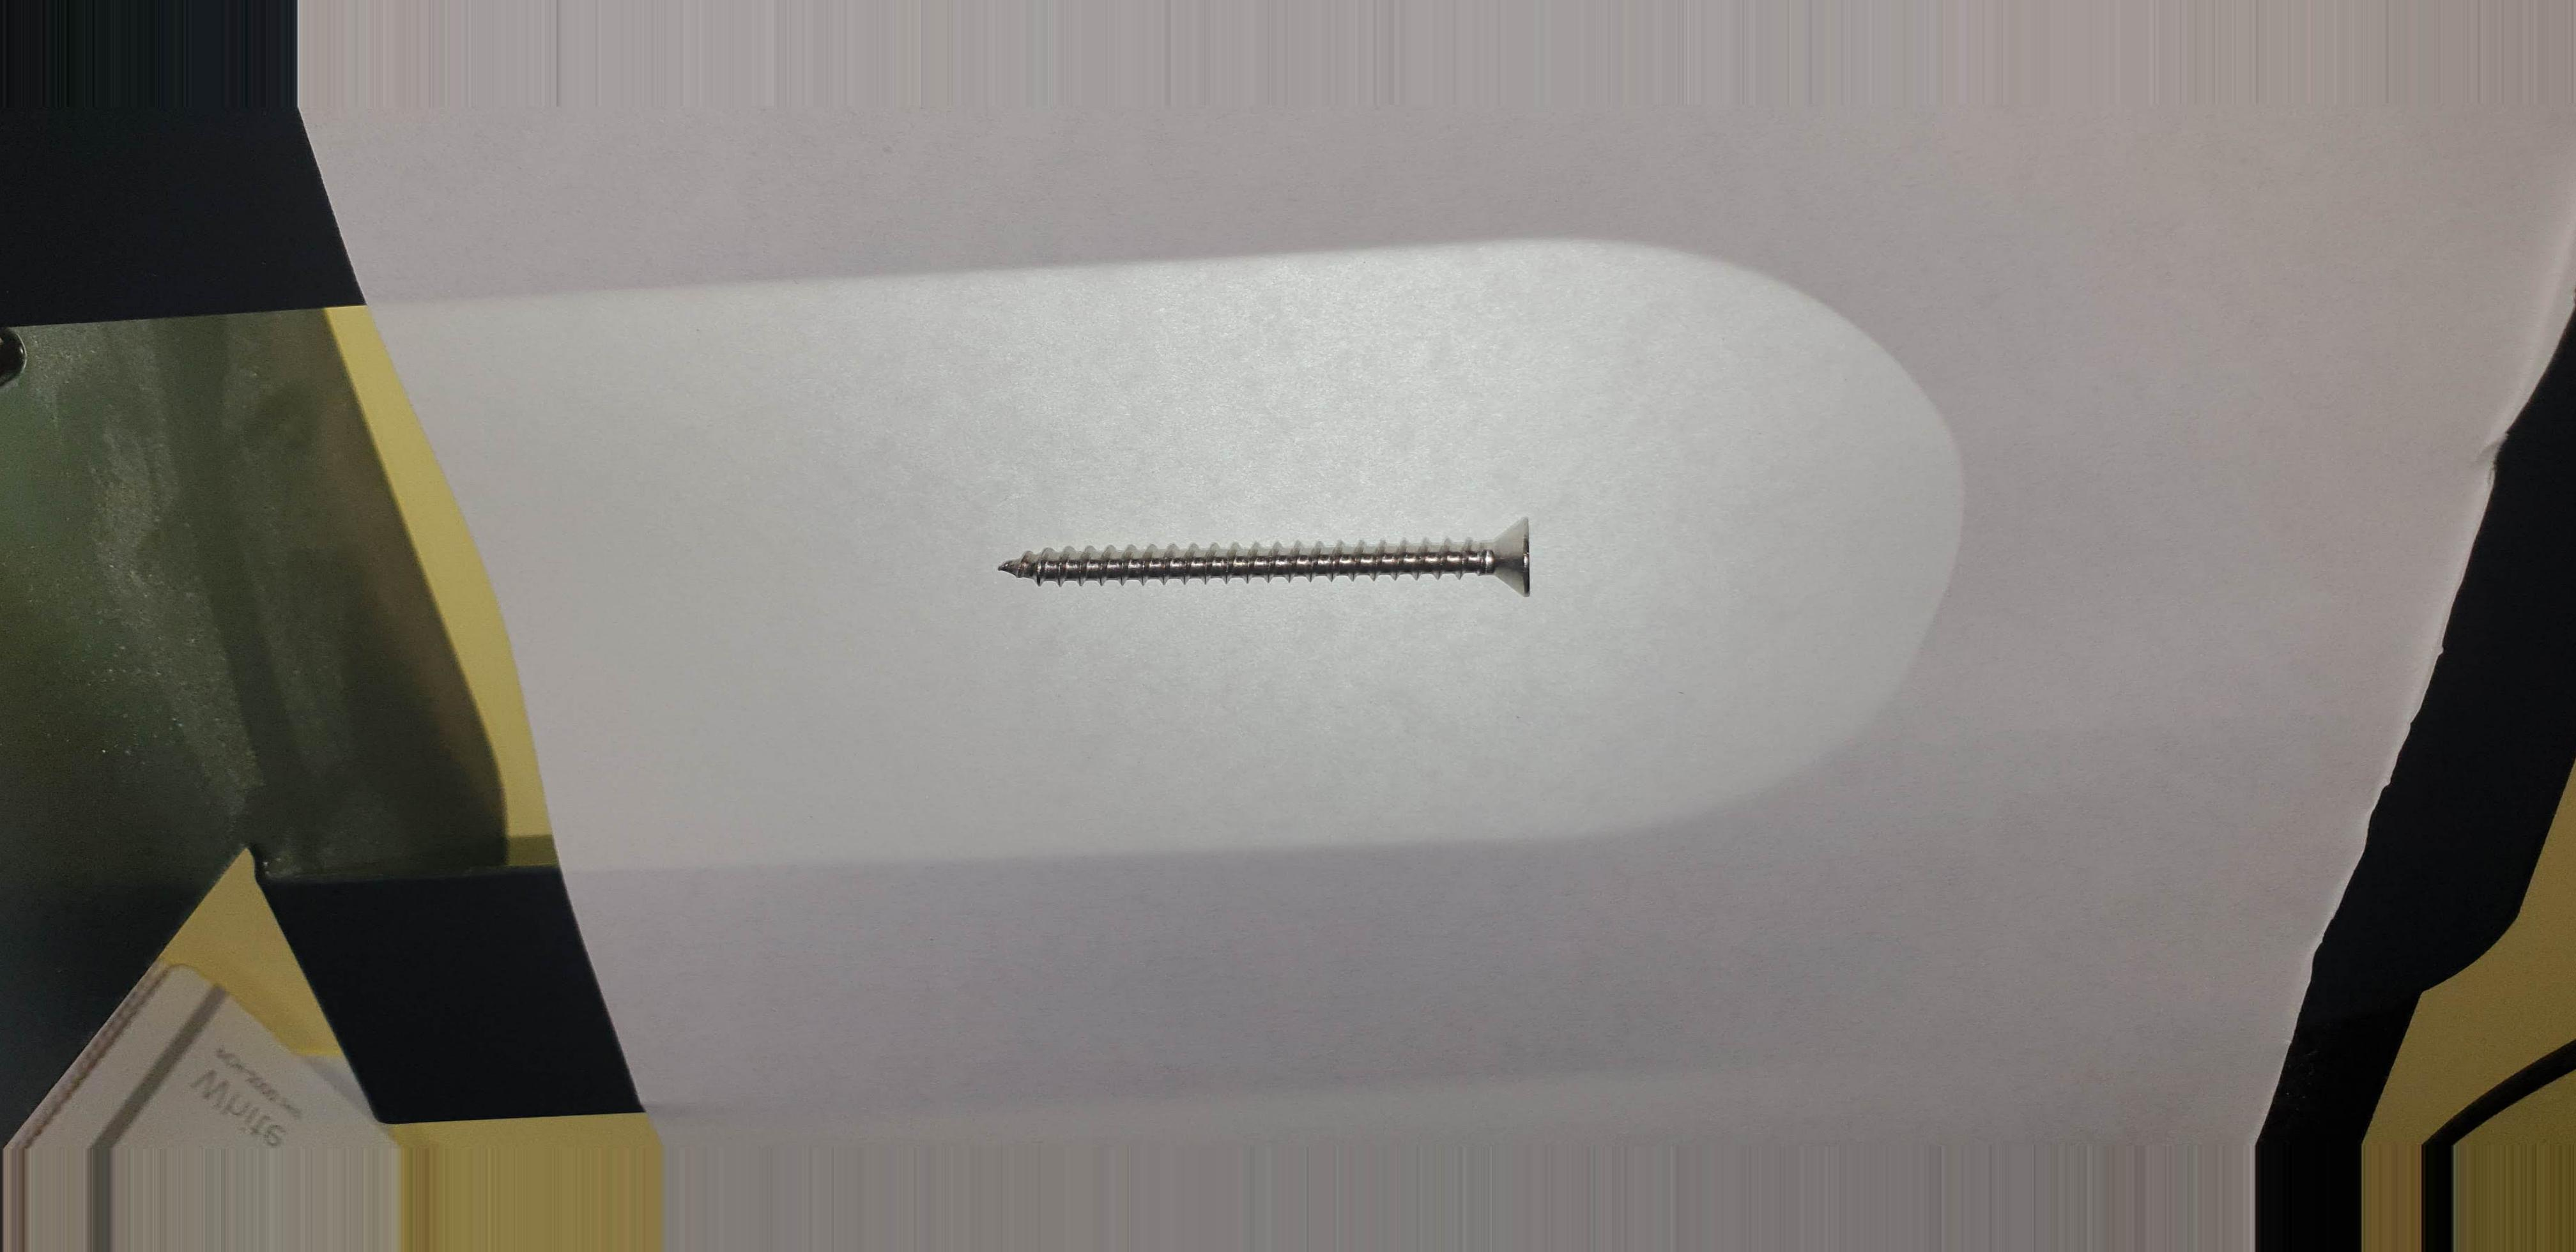fastener: (968, 488, 1590, 619)
